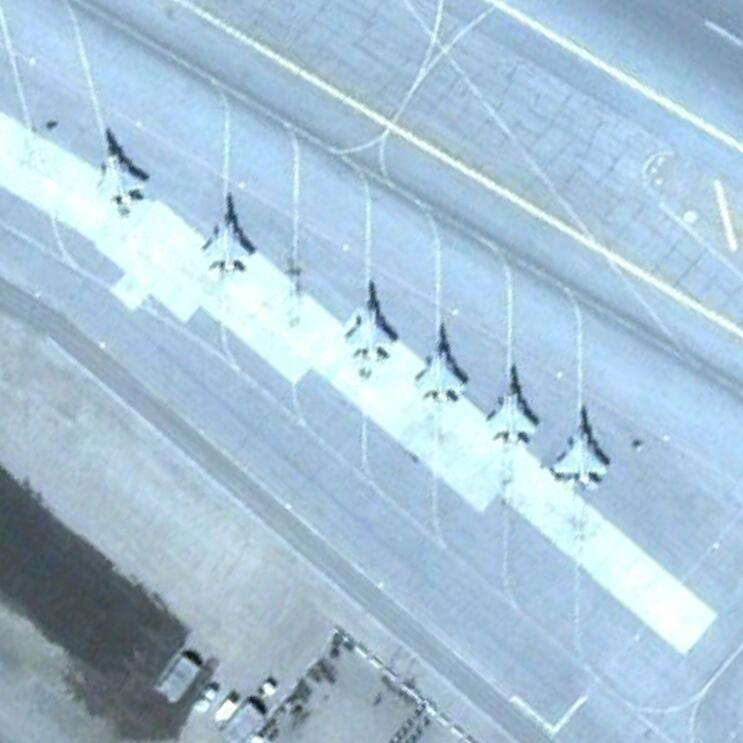A13: (551, 405, 612, 493), (341, 278, 399, 365), (91, 135, 150, 217), (483, 369, 543, 448), (198, 190, 253, 275), (413, 324, 468, 407)
